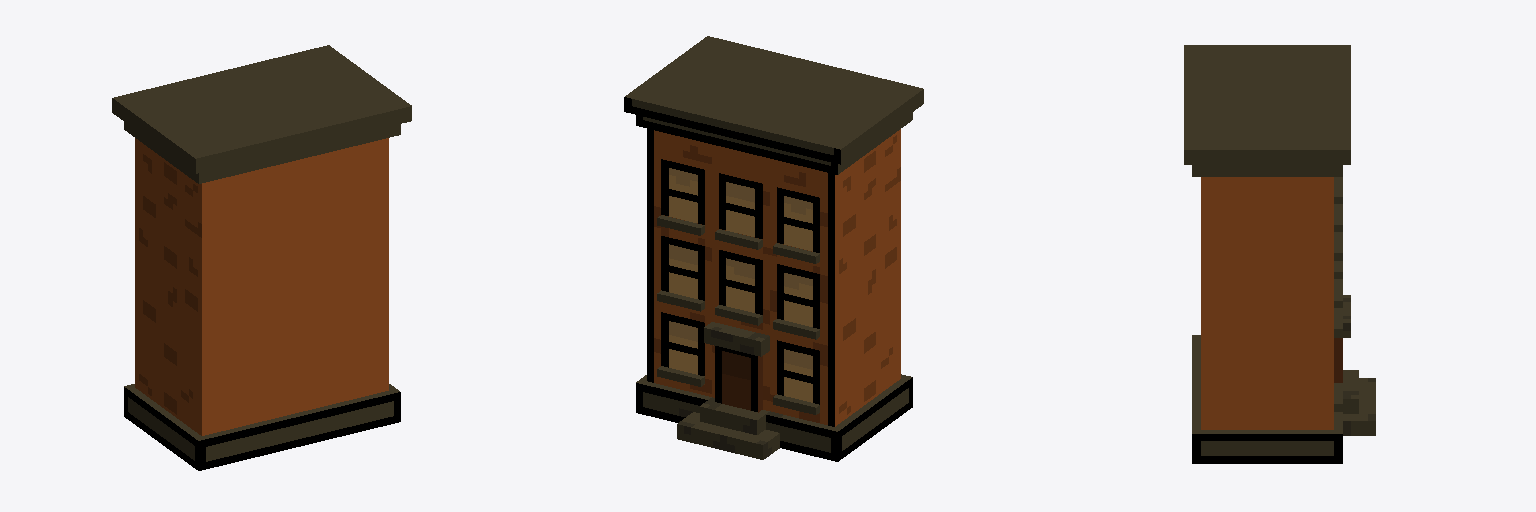
3 views of the same model, side by side, from view 1: azimuth 30°, elevation 25°; view 2: azimuth 150°, elevation 25°; view 3: azimuth 270°, elevation 25° (orthographic).
Parts seen in each view (by area): view 1: cuboid; view 2: cuboid; view 3: cuboid.
Boxes of the visible parts, <box> form: cuboid: <box>112,45,411,470</box>; cuboid: <box>624,36,923,461</box>; cuboid: <box>1184,45,1375,463</box>.
Size of the model in its own units: 1.88 by 2.62 by 1.44.
1 materials, 1 textured.